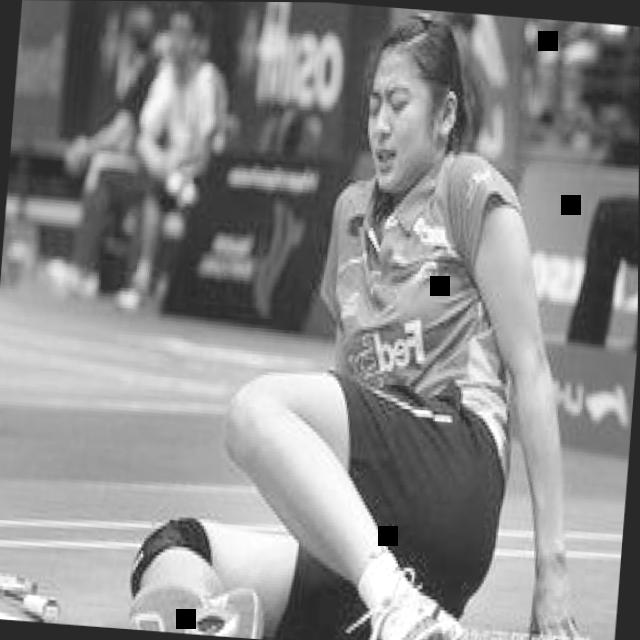Fall-Detected: (61, 0, 640, 640)
